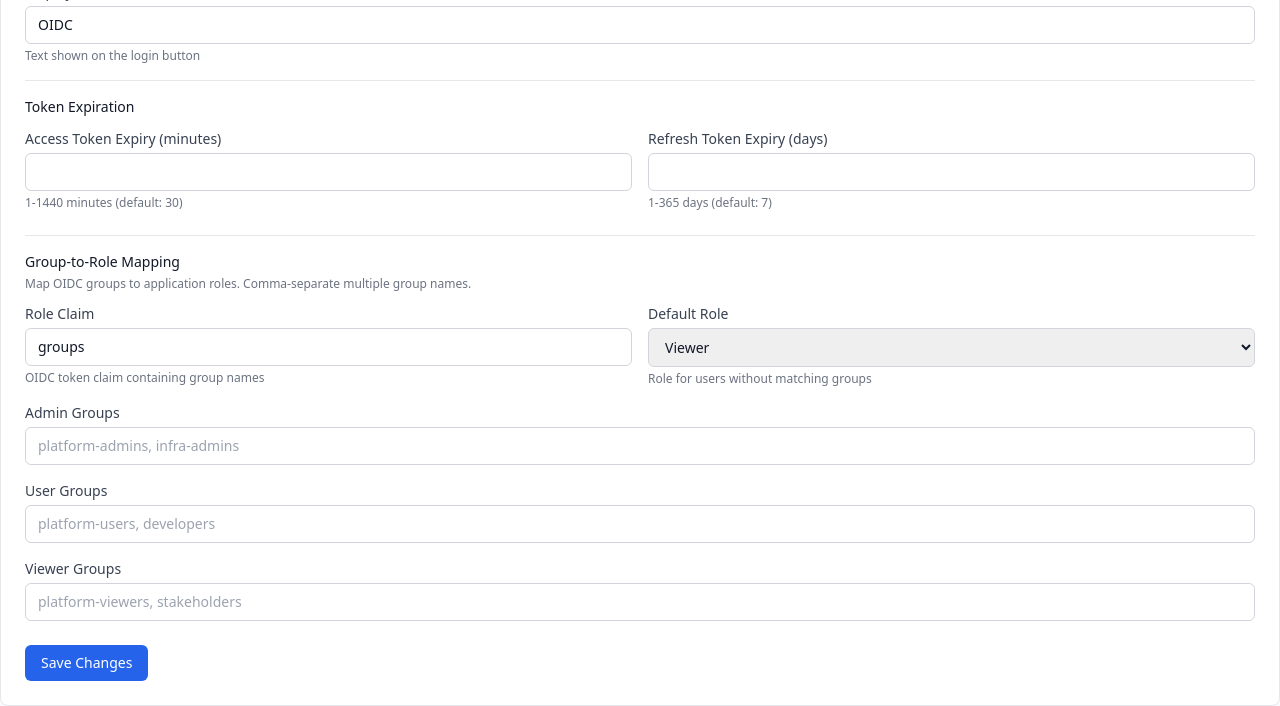
Test: SettingsPage › admin users › shows success message after saving
This screenshot has width=1280, height=706.
(page scrolled)
Click the button "Save Changes".
click(87, 663)  # box [25, 645, 148, 681]
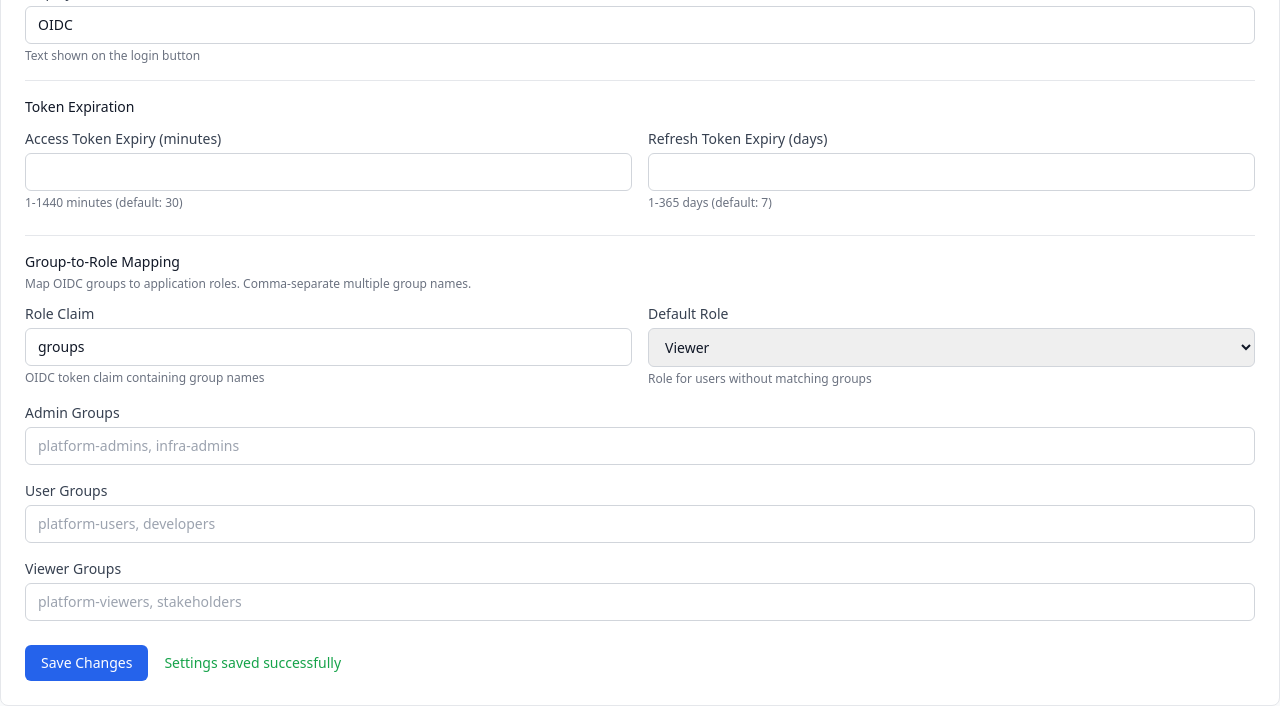
Result: the text "Settings saved successfully" is shown at [164, 653, 341, 673]
